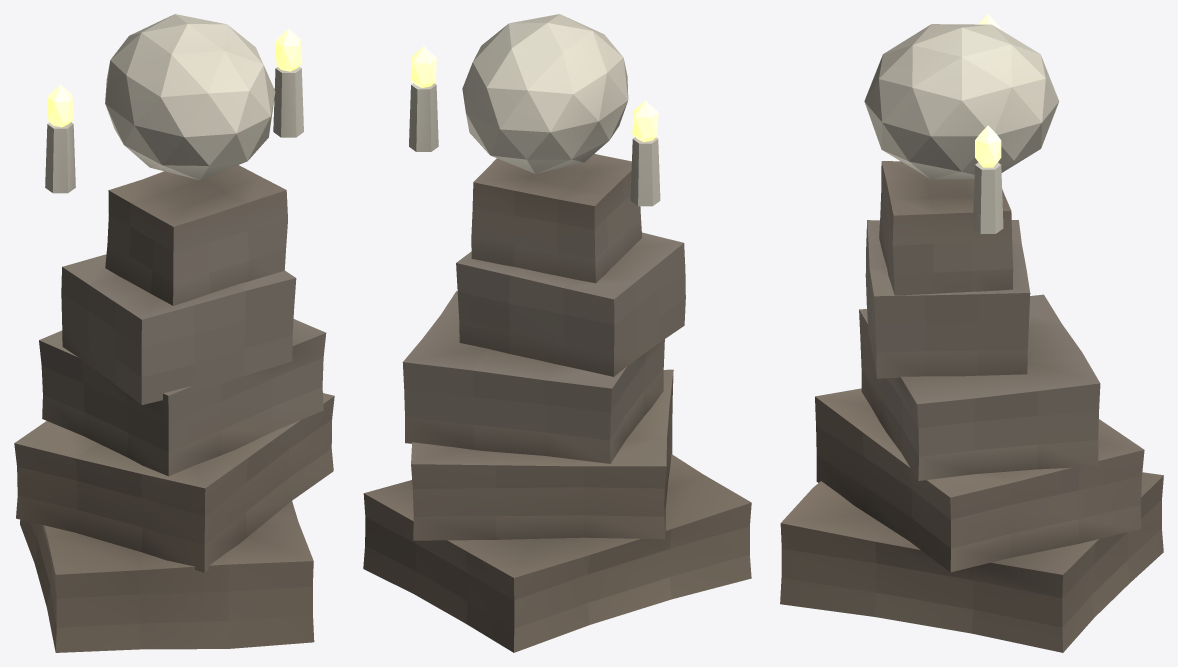
File: skull_shrine.glb
3 views of the same model, side by side, from view 1: azimuth 30°, elevation 25°; view 2: azimuth 150°, elevation 25°; view 3: azimuth 270°, elevation 25° (orthographic). The views are drawn at different scales.
Visible parts, largest first — view 1: skull_shrine; view 2: skull_shrine; view 3: skull_shrine.
Boxes of the visible parts, x1,y1,x2,y2 form: skull_shrine: (14, 14, 334, 652); skull_shrine: (363, 14, 751, 652); skull_shrine: (780, 14, 1163, 652).
Size of the model in its own units: 0.8213 by 1.41 by 0.8757.
